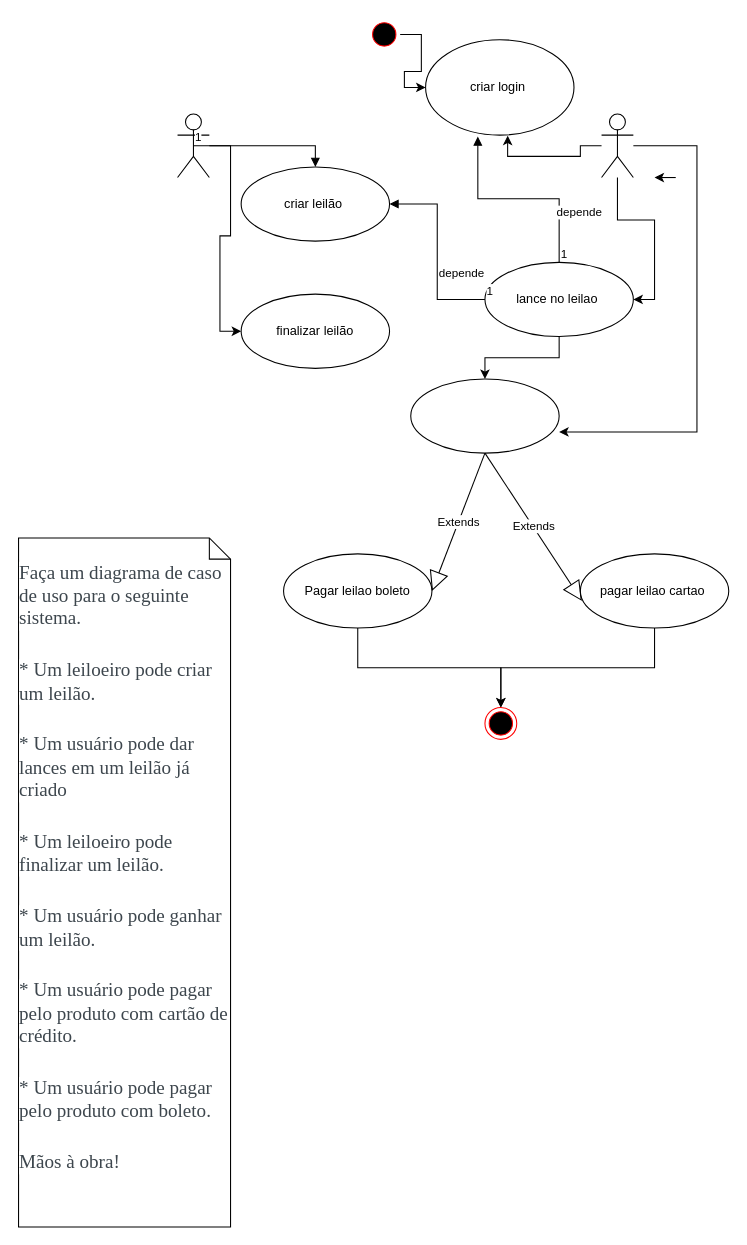
The diagram is 747 pixels wide and 1245 high, and some of its shapes have lost their labels. The shapes that lost their labels are listed below. From the top down, each one's centre as x and y in pixels, then its label:
the point at 192,145: leiloeiro
the point at 616,145: usuário
the point at 484,415: ganhar leilão
